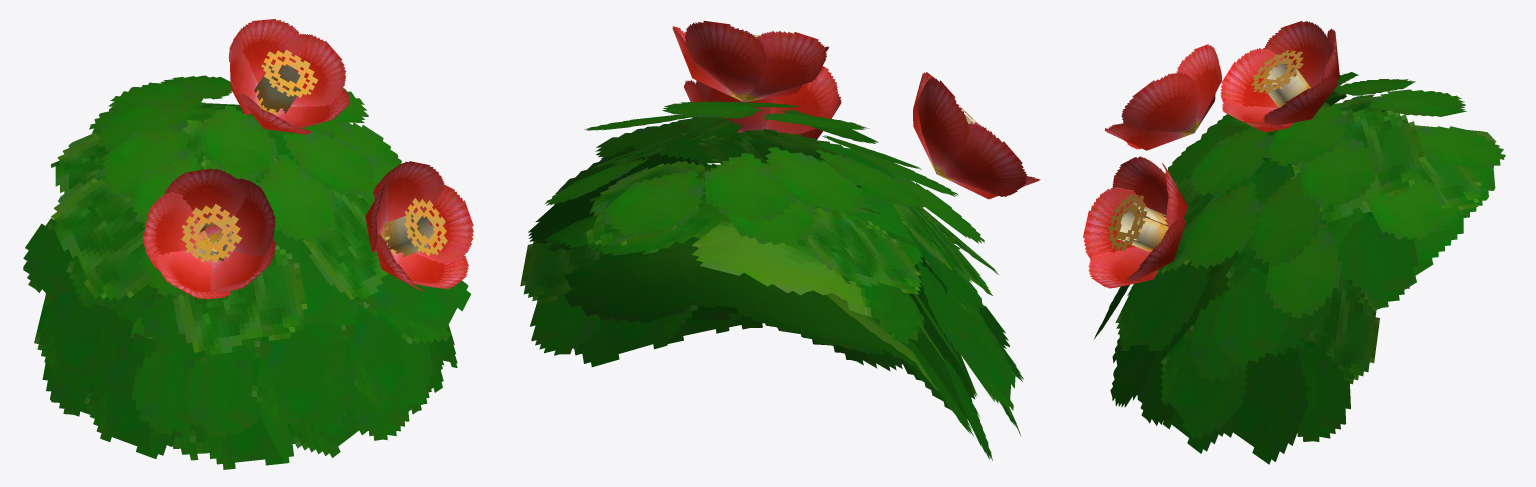
The model's file is red-camellia.glb.
The picture shows the model from 3 angles, left to right: view 1: azimuth 30°, elevation 25°; view 2: azimuth 150°, elevation 25°; view 3: azimuth 270°, elevation 25°; orthographic projection. The views are drawn at different scales.
Size of the model in its own units: 10.61 by 9.55 by 10.15.
Materials: 2 (2 with a texture image).
